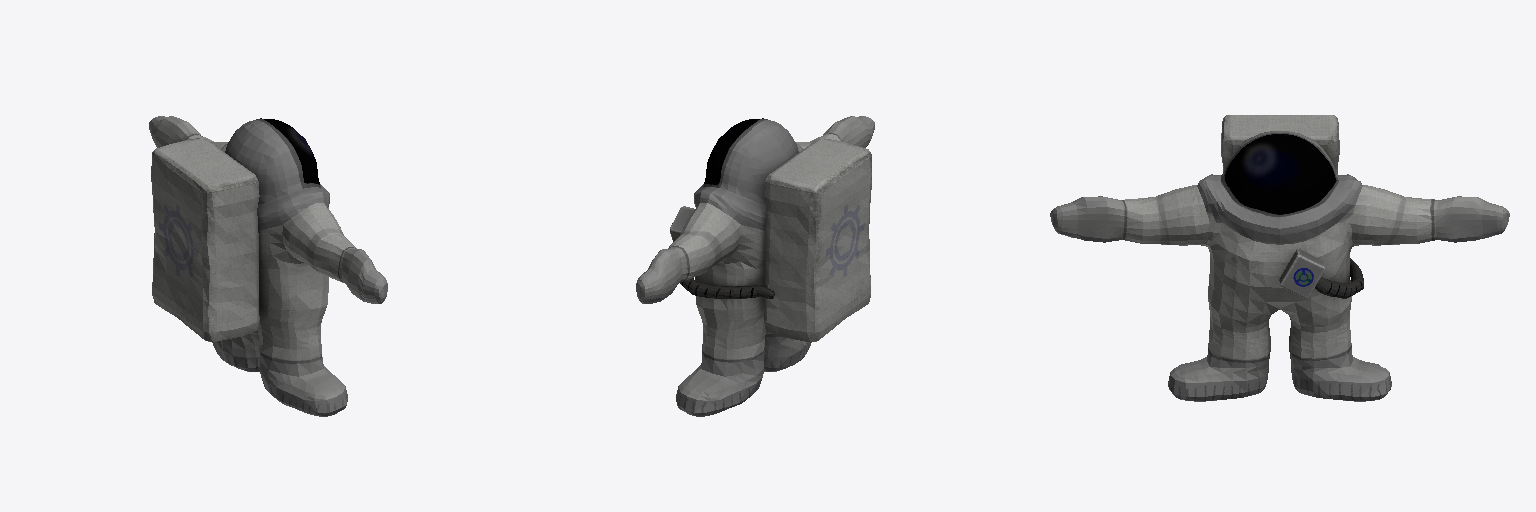
The picture shows the model from 3 angles: view 1: azimuth 30°, elevation 25°; view 2: azimuth 150°, elevation 25°; view 3: azimuth 270°, elevation 25°; orthographic projection.
Visible parts, largest first — view 1: Body_and_Tube, Backpack; view 2: Body_and_Tube, Backpack, Tube; view 3: Body_and_Tube, Backpack, Lunchbox, Tube.
Boxes of the visible parts, <box> form: Body_and_Tube: <box>149,116,387,416</box>; Backpack: <box>151,138,259,341</box>; Body_and_Tube: <box>636,116,874,416</box>; Backpack: <box>764,139,871,342</box>; Tube: <box>680,278,774,298</box>; Body_and_Tube: <box>1050,131,1509,401</box>; Backpack: <box>1221,115,1339,173</box>; Lunchbox: <box>1279,249,1325,298</box>; Tube: <box>1315,258,1363,298</box>.
Bounding box in the file's own units: 121 × 187 × 303.
1 materials, 1 textured.